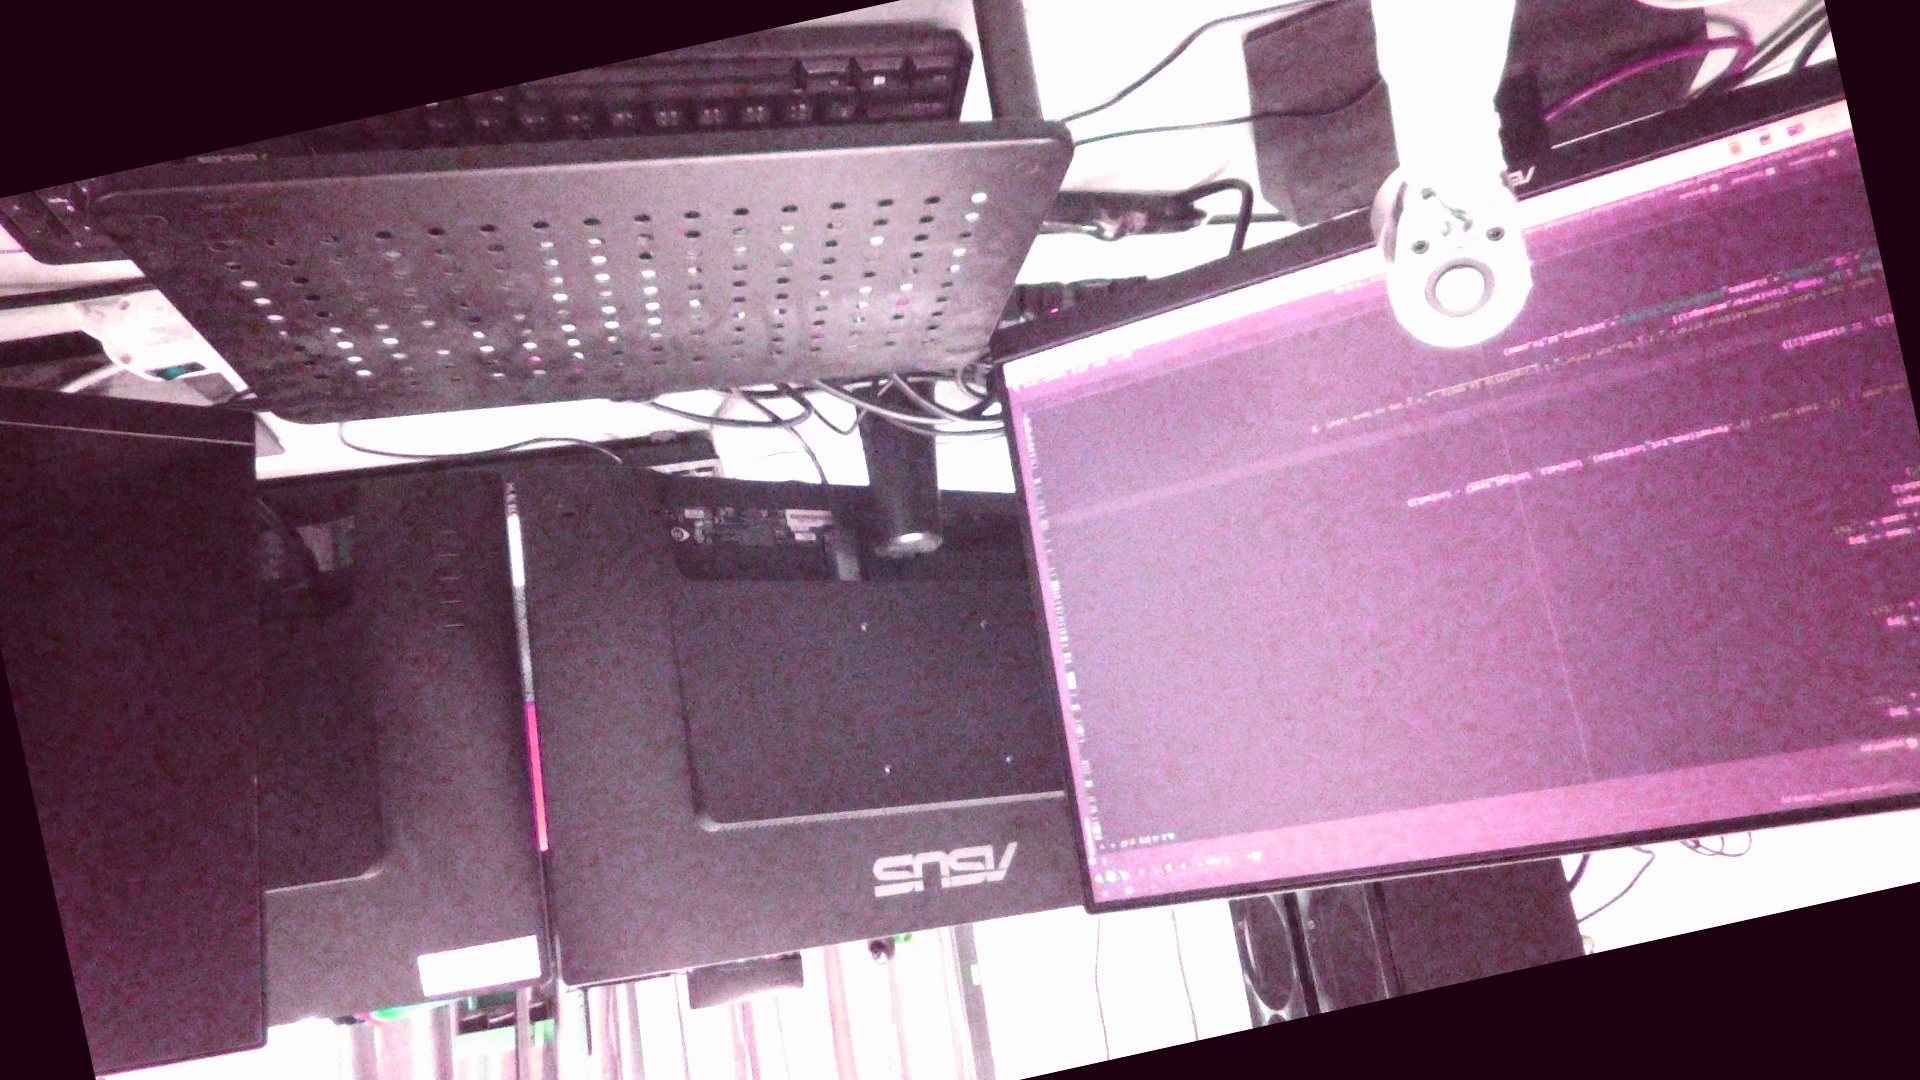wrench: (1415, 249, 1507, 331)
